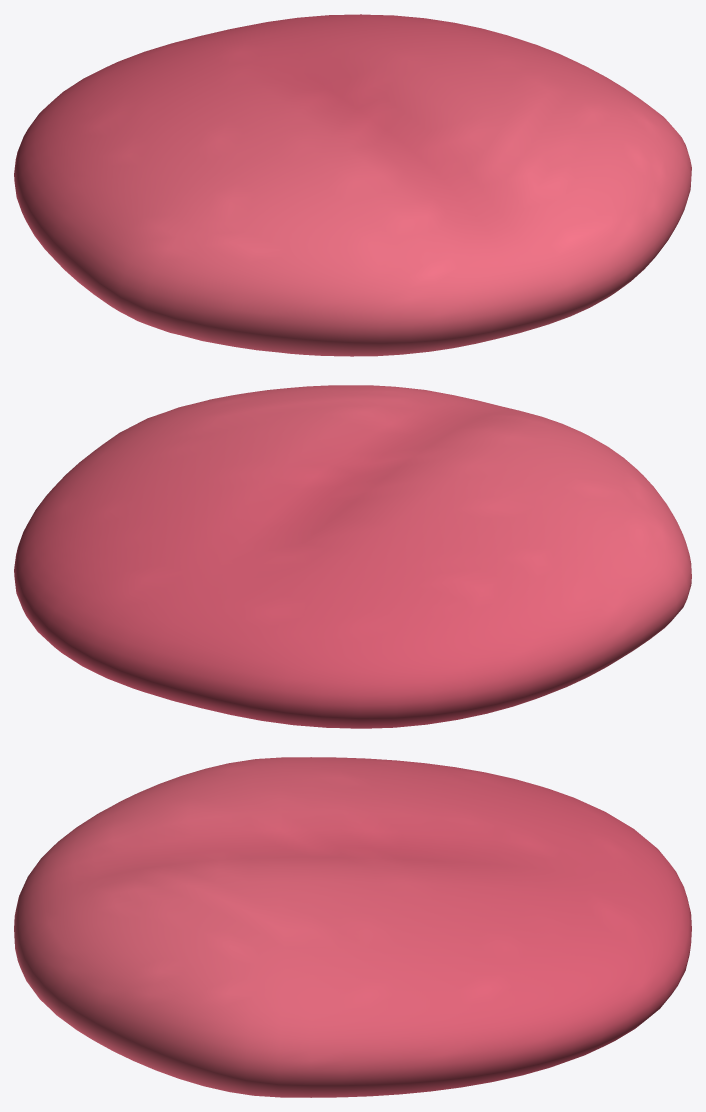
File: tongue.glb
3 views of the same model, one above another, from view 1: azimuth 30°, elevation 25°; view 2: azimuth 150°, elevation 25°; view 3: azimuth 270°, elevation 25° (orthographic).
Visible parts, largest first — view 1: tongue; view 2: tongue; view 3: tongue.
Boxes of the visible parts, x1,y1,x2,y2 form: tongue: [14, 14, 691, 356]; tongue: [14, 385, 691, 728]; tongue: [14, 757, 691, 1097].
Size of the model in its own units: 4.68 by 1.27 by 4.72.
